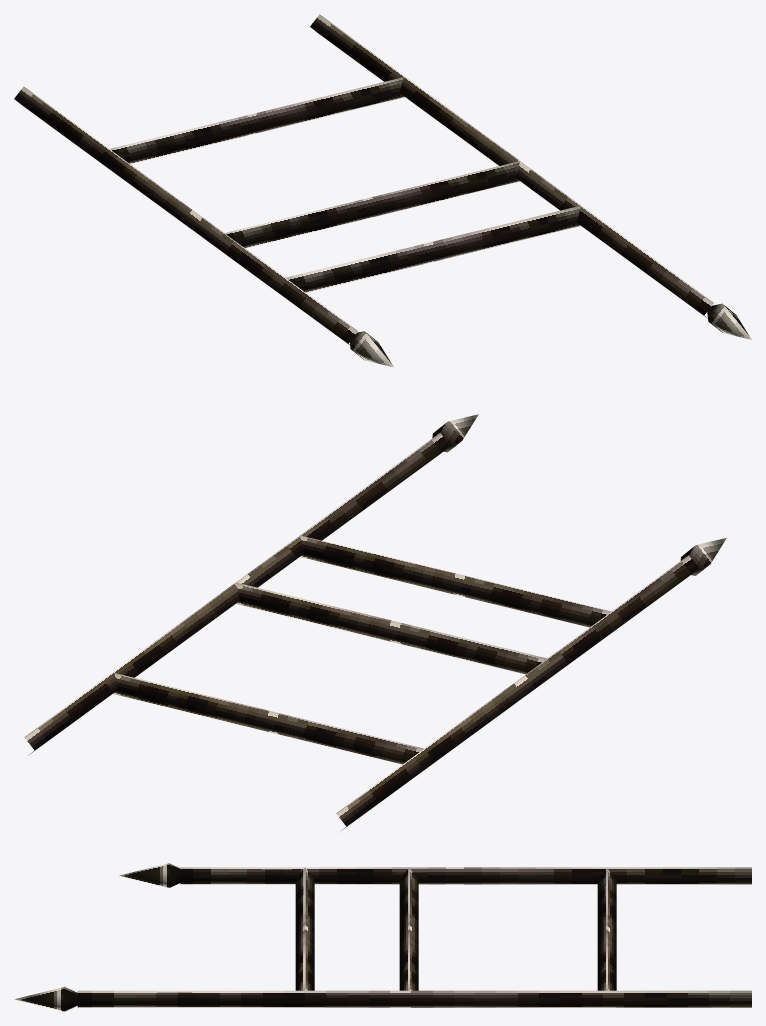
Rendered from SteelDoor01.glb.
The picture shows the model from 3 angles, top to bottom: view 1: azimuth 30°, elevation 25°; view 2: azimuth 150°, elevation 25°; view 3: azimuth 270°, elevation 25°; orthographic projection. The views are drawn at different scales.
Visible parts, largest first — view 1: model_SteelDoor01; view 2: model_SteelDoor01; view 3: model_SteelDoor01.
Part boxes in pixels (x1,y1,x2,y2): model_SteelDoor01: (14, 14, 751, 367); model_SteelDoor01: (24, 414, 726, 832); model_SteelDoor01: (14, 863, 751, 1011).
Bounding box in the file's own units: 1.54 × 0.1332 × 3.56.
Materials: 2 (2 with a texture image).
